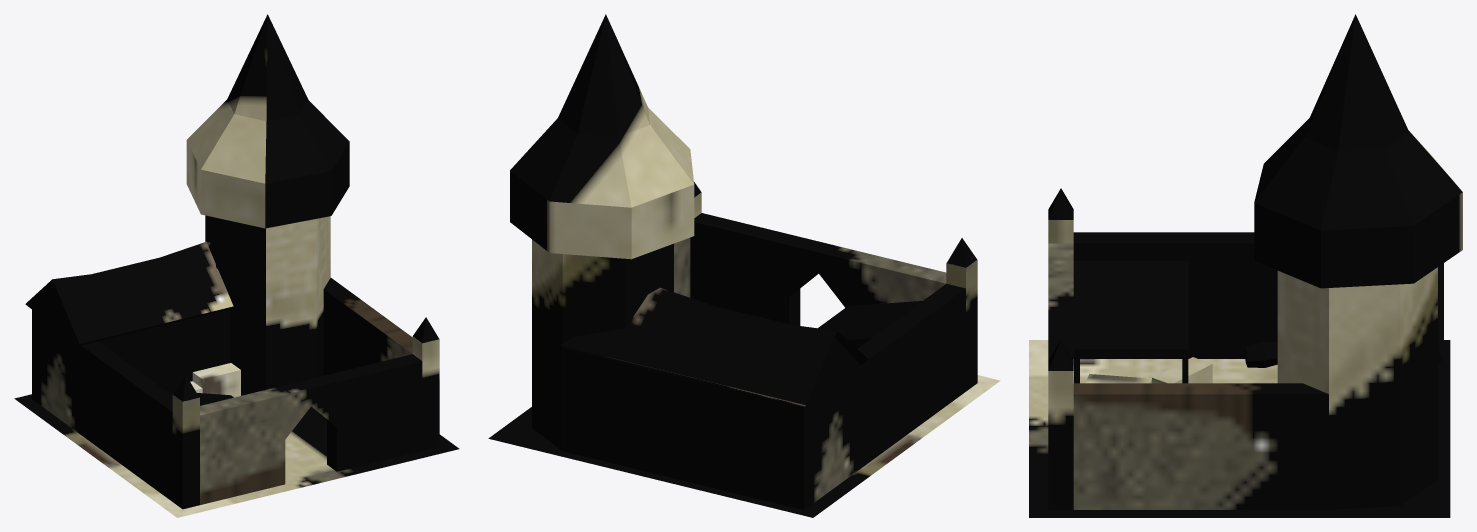
File: caserne.obj
3 renders of one model, left to right at view 1: azimuth 30°, elevation 25°; view 2: azimuth 150°, elevation 25°; view 3: azimuth 270°, elevation 25°, orthographic. The views are drawn at different scales.
Parts seen in each view (by area): view 1: Cube.008_Cube.010; view 2: Cube.008_Cube.010; view 3: Cube.008_Cube.010.
Boxes of the visible parts, x1,y1,x2,y2 form: Cube.008_Cube.010: [14, 14, 459, 517]; Cube.008_Cube.010: [488, 14, 1000, 517]; Cube.008_Cube.010: [1029, 14, 1462, 517].
Bounding box in the file's own units: 6.67 × 8 × 6.8.
